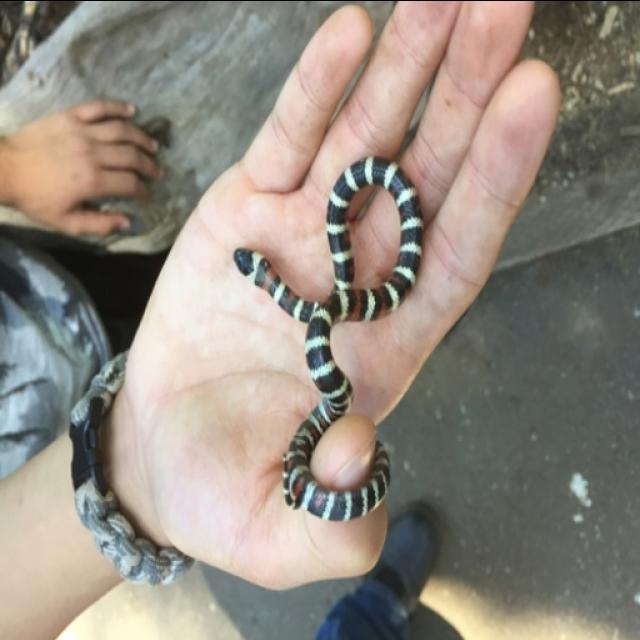snake: (222, 142, 452, 524)
